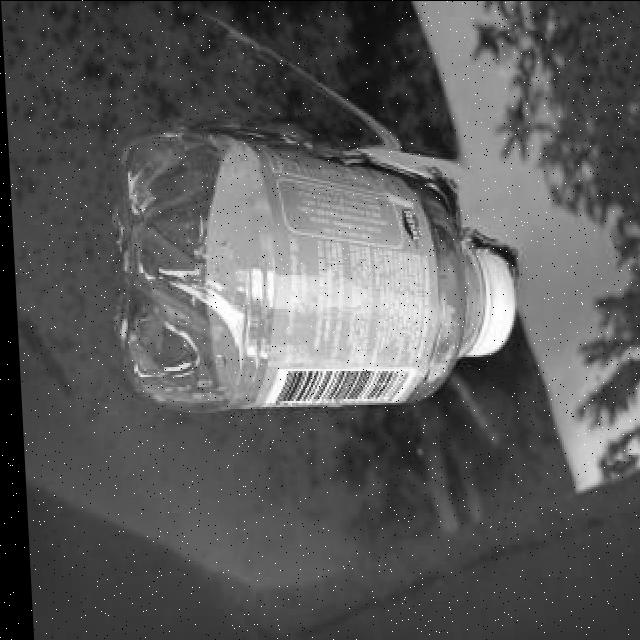bottle: (95, 119, 521, 423)
